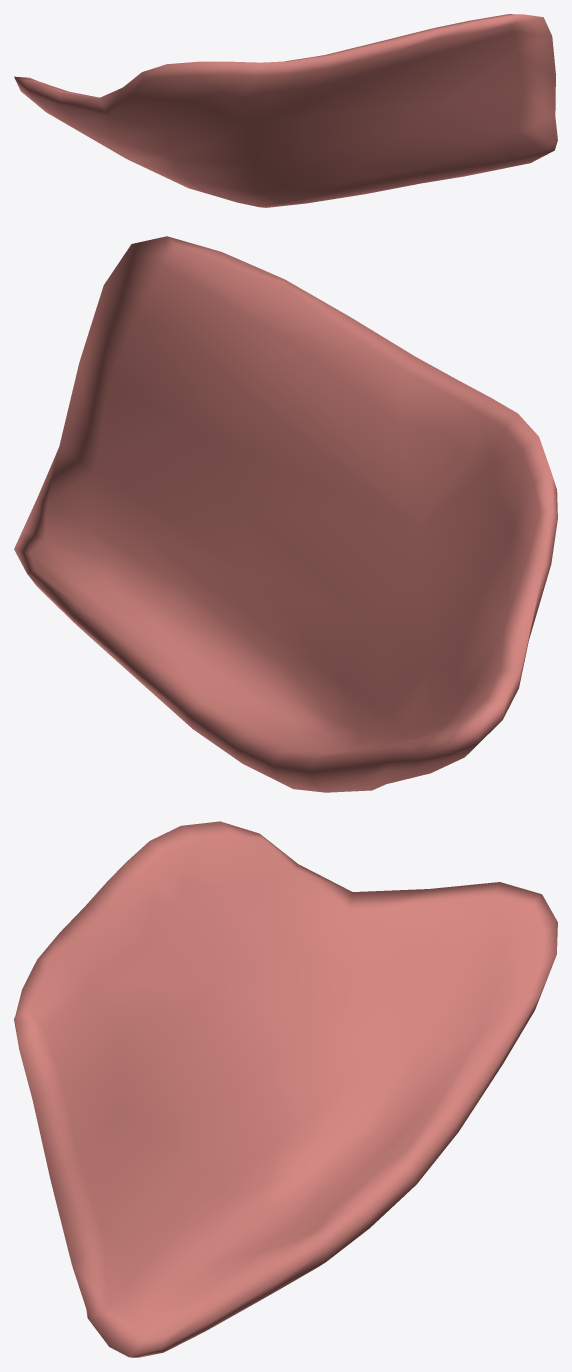
3 views of the same model, one above another, from view 1: azimuth 30°, elevation 25°; view 2: azimuth 150°, elevation 25°; view 3: azimuth 270°, elevation 25° (orthographic). The views are drawn at different scales.
Parts seen in each view (by area): view 1: ZA_edf0f30e9494ccfd; view 2: ZA_edf0f30e9494ccfd; view 3: ZA_edf0f30e9494ccfd.
Part boxes in pixels (x1,y1,x2,y2): ZA_edf0f30e9494ccfd: [14, 14, 557, 207]; ZA_edf0f30e9494ccfd: [14, 236, 557, 792]; ZA_edf0f30e9494ccfd: [14, 821, 557, 1357].
Size of the model in its own units: 0.00957 by 0.00475 by 0.00669.
